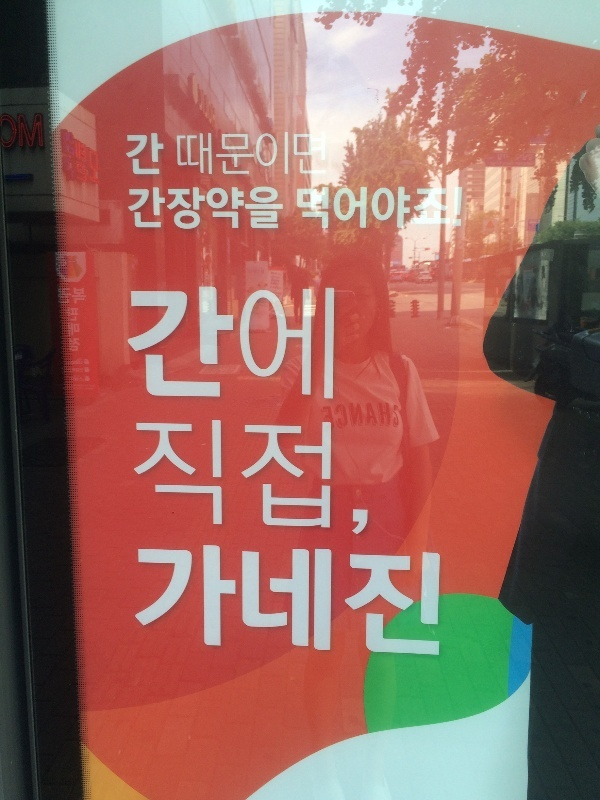text: (129, 288, 144, 402), (145, 288, 160, 402), (161, 288, 176, 402), (177, 288, 192, 402), (193, 288, 208, 402), (209, 288, 224, 402), (225, 288, 240, 402), (241, 288, 256, 402), (257, 288, 272, 402), (273, 288, 288, 402), (289, 288, 304, 402), (305, 288, 320, 402), (145, 417, 160, 531), (161, 417, 176, 531), (177, 417, 192, 531), (193, 417, 208, 531), (209, 417, 224, 531), (225, 417, 240, 531), (241, 417, 256, 531), (257, 417, 272, 531), (273, 417, 288, 531), (289, 417, 304, 531), (305, 417, 320, 531), (145, 549, 160, 659), (161, 549, 176, 659), (177, 549, 192, 659), (193, 549, 208, 659), (209, 549, 224, 659), (225, 549, 240, 659), (241, 549, 256, 659), (257, 549, 272, 659), (273, 549, 288, 659), (289, 549, 304, 659), (305, 549, 320, 659), (321, 549, 336, 659), (337, 549, 352, 659), (353, 549, 368, 659), (369, 549, 384, 659), (385, 549, 400, 659), (401, 549, 416, 659), (417, 549, 432, 659), (321, 288, 335, 402), (243, 24, 256, 121), (257, 24, 270, 121), (321, 417, 332, 531), (134, 417, 144, 531), (65, 125, 80, 186), (81, 125, 96, 186), (193, 71, 208, 131), (136, 549, 144, 659), (433, 549, 441, 659), (177, 130, 192, 179), (193, 130, 208, 179), (209, 130, 224, 179), (225, 130, 240, 179), (241, 130, 256, 179), (257, 130, 272, 179), (273, 130, 288, 179), (289, 130, 304, 179), (305, 130, 320, 179), (129, 186, 144, 232), (145, 186, 160, 232), (161, 186, 176, 232), (177, 186, 192, 232), (193, 186, 208, 232), (209, 186, 224, 232), (225, 186, 240, 232), (241, 186, 256, 232), (257, 186, 272, 232), (129, 132, 144, 177), (145, 132, 160, 177), (66, 307, 80, 352), (305, 188, 320, 230), (321, 188, 336, 230), (337, 188, 352, 230), (353, 188, 368, 230), (369, 188, 384, 230), (385, 188, 400, 230), (401, 188, 416, 230), (417, 188, 432, 230), (433, 188, 448, 230), (449, 188, 463, 230), (273, 186, 285, 232), (1, 115, 16, 151), (17, 115, 32, 151), (209, 71, 217, 131), (33, 115, 45, 151), (337, 402, 352, 430), (353, 402, 368, 430), (369, 402, 384, 430), (385, 402, 400, 430), (353, 509, 368, 537), (322, 402, 336, 430), (296, 188, 304, 230), (321, 130, 327, 179), (65, 288, 80, 305), (60, 125, 64, 186), (388, 300, 400, 319), (97, 125, 99, 186), (57, 288, 64, 305), (410, 300, 416, 318), (81, 288, 87, 305), (174, 130, 176, 179), (161, 132, 163, 177), (70, 376, 80, 382), (417, 300, 420, 318), (70, 360, 80, 365), (70, 368, 80, 373), (127, 186, 128, 232), (127, 132, 128, 177), (351, 509, 352, 537), (81, 376, 84, 382), (81, 368, 84, 373), (81, 360, 83, 365)
